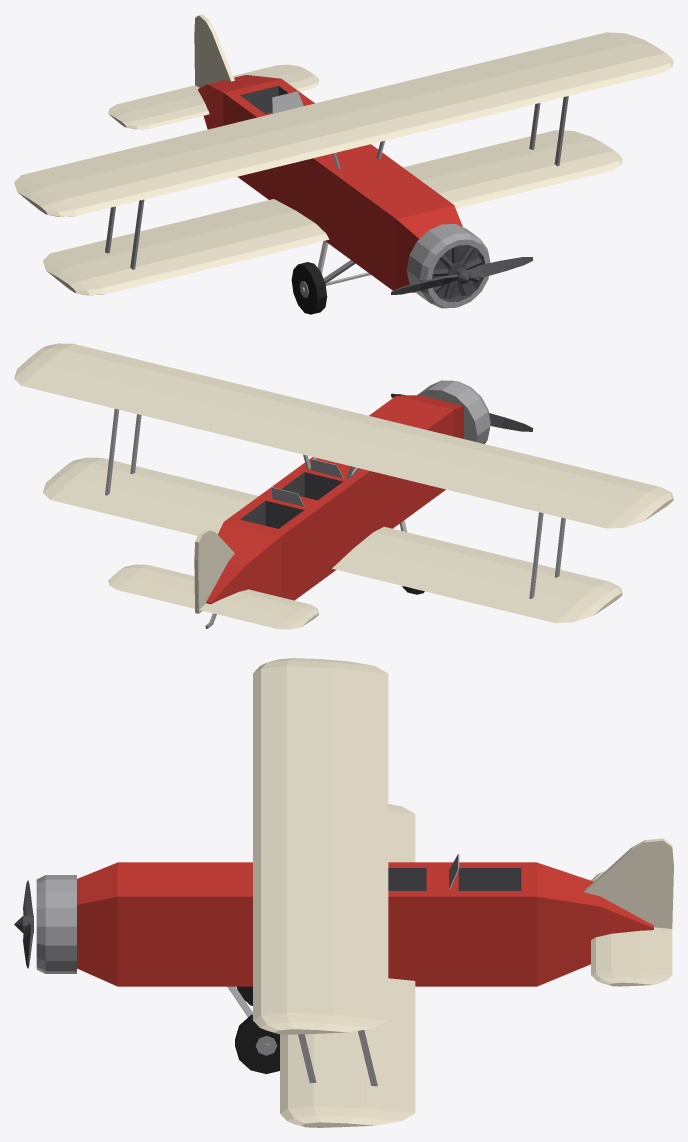
The picture shows the model from 3 angles, top to bottom: view 1: azimuth 30°, elevation 25°; view 2: azimuth 150°, elevation 25°; view 3: azimuth 270°, elevation 25°; orthographic projection. The views are drawn at different scales.
Parts seen in each view (by area): view 1: Nu_D36, Pervane; view 2: Nu_D36, Pervane; view 3: Nu_D36, Pervane.
Part boxes in pixels (x1=…): Nu_D36: x1=14, y1=14, x2=673, y2=314; Pervane: x1=391, y1=257, x2=533, y2=294; Nu_D36: x1=14, y1=343, x2=673, y2=629; Pervane: x1=391, y1=393, x2=533, y2=431; Nu_D36: x1=36, y1=658, x2=673, y2=1127; Pervane: x1=14, y1=880, x2=33, y2=968.
Size of the model in its own units: 9.74 by 2.44 by 7.32.
